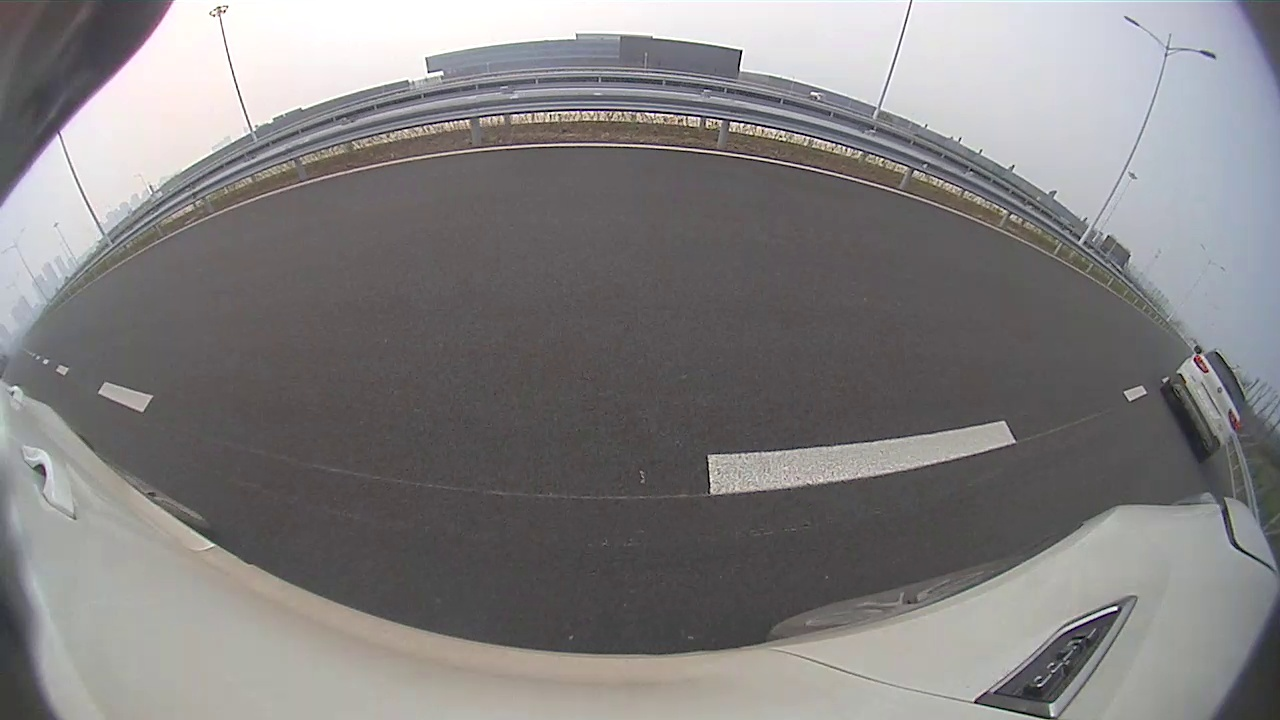car: (649, 71, 919, 265)
front: (648, 176, 673, 222)
rear: (693, 181, 743, 260)
